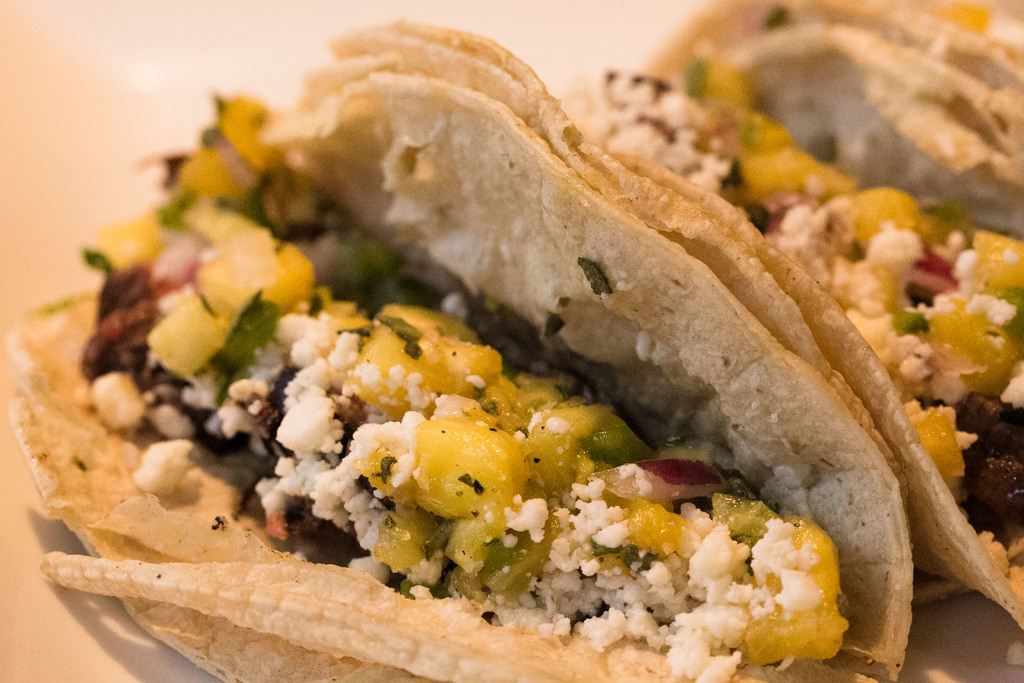sandwich: (1, 64, 903, 682), (376, 0, 1023, 634)
